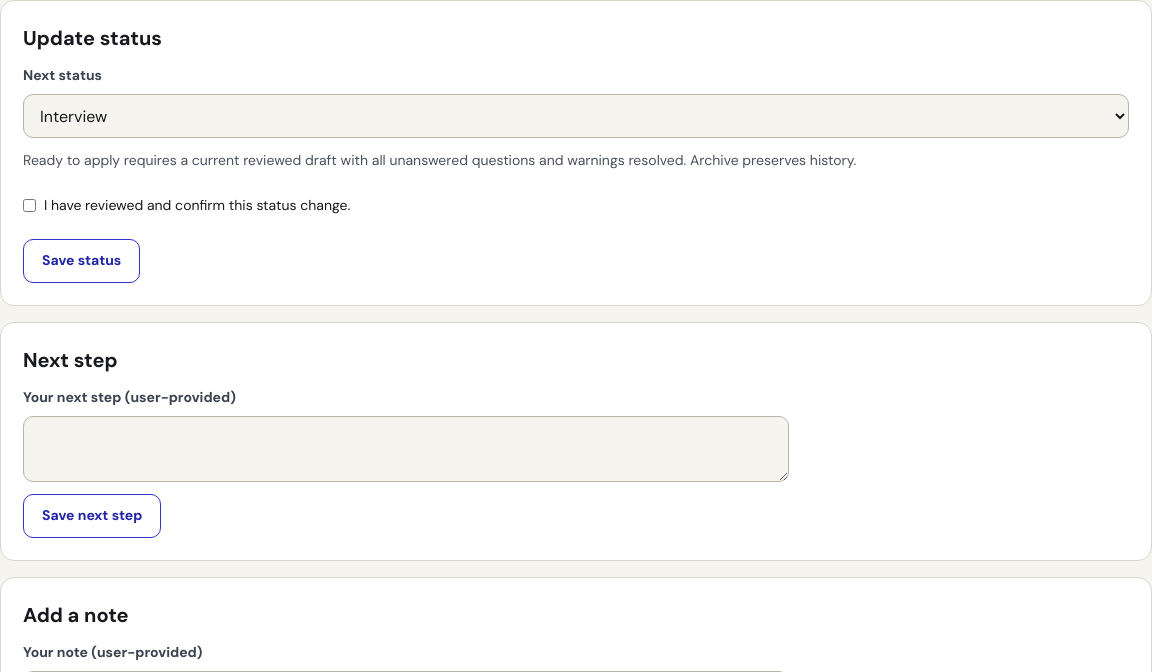
requires application archive confirmation and keeps failures open
Select "Archived" in the dropdown labelled "Next status" at (576, 116), box [23,94,1129,138]
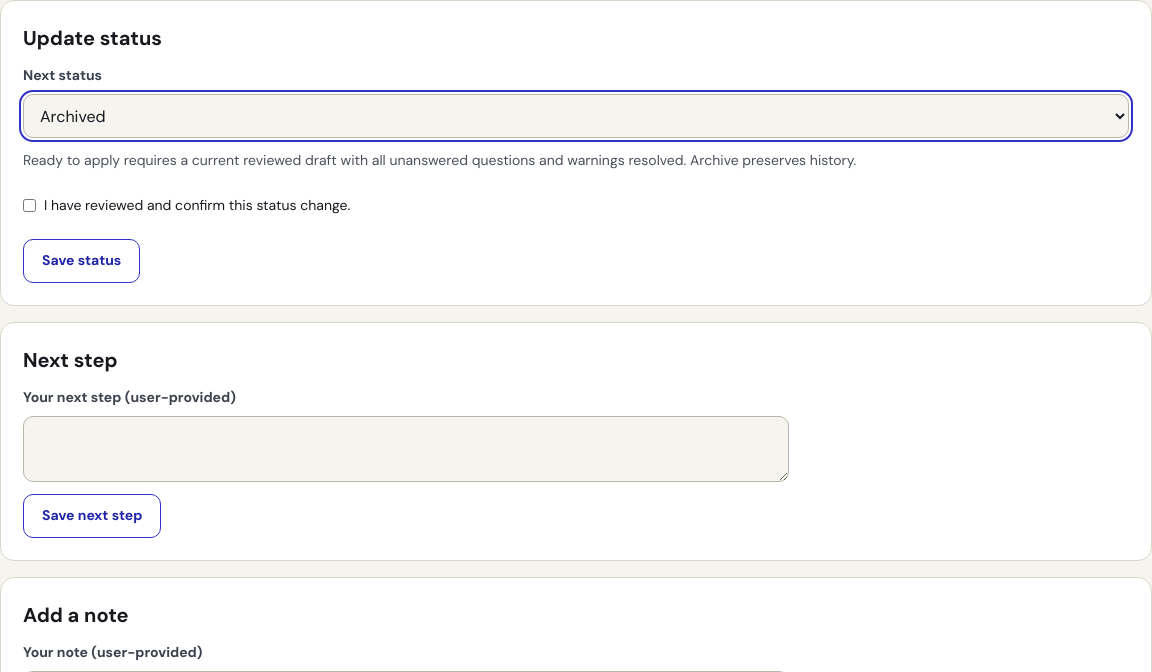
Click the checkbox labelled "I have reviewed and confirm this status change." at (30, 205), box [23,198,36,212]
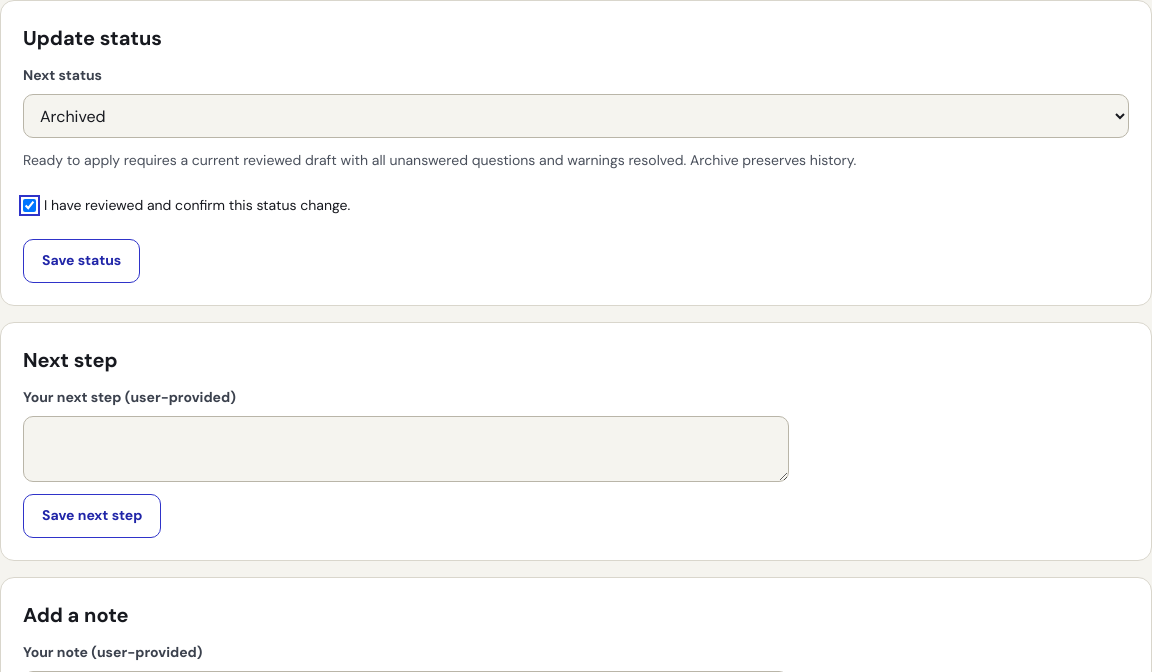
Click the button "Save status" at (82, 261), box [23,239,140,283]
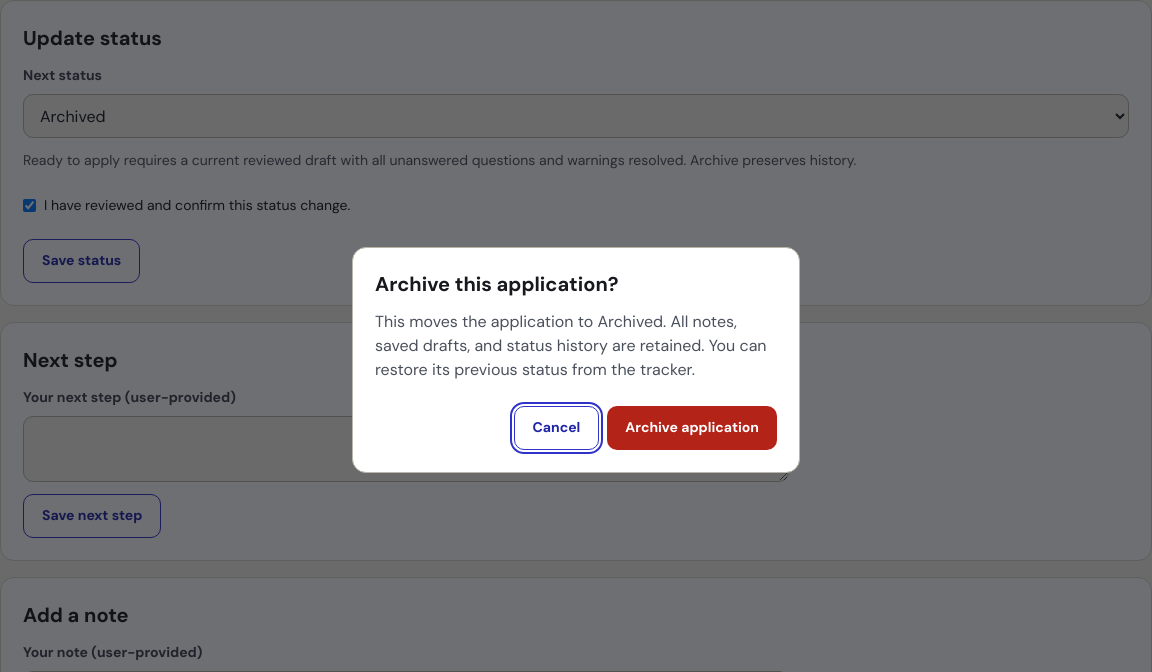
Expected: the dialog "Archive this application?" shows "history are retained", [375,311,767,380]
Click the button "Cancel" at (556, 428), box [514,406,599,450]
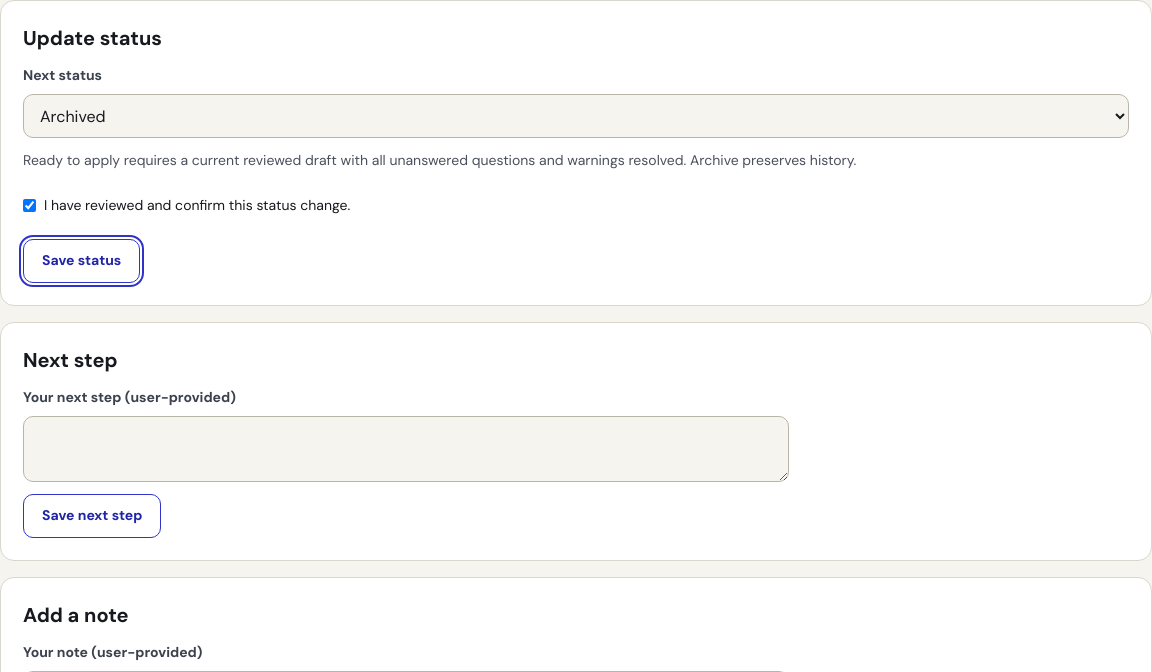
Click the button "Save status" at (82, 261), box [23,239,140,283]
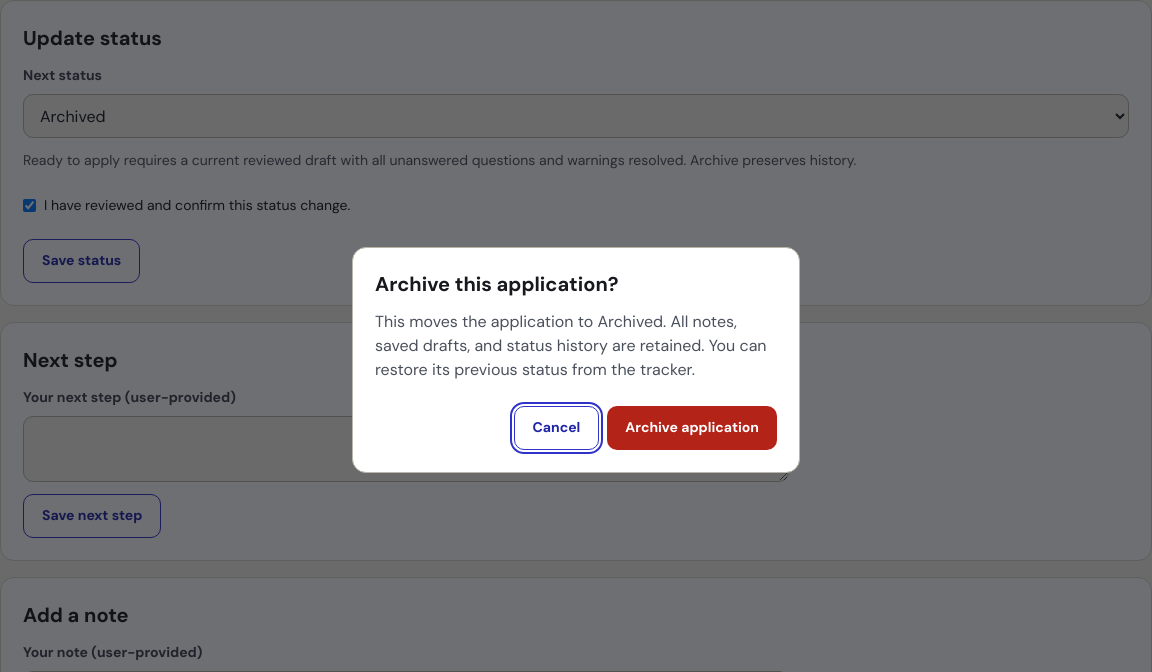
Click the button "Archive application" at (692, 428), box [607,406,777,450]
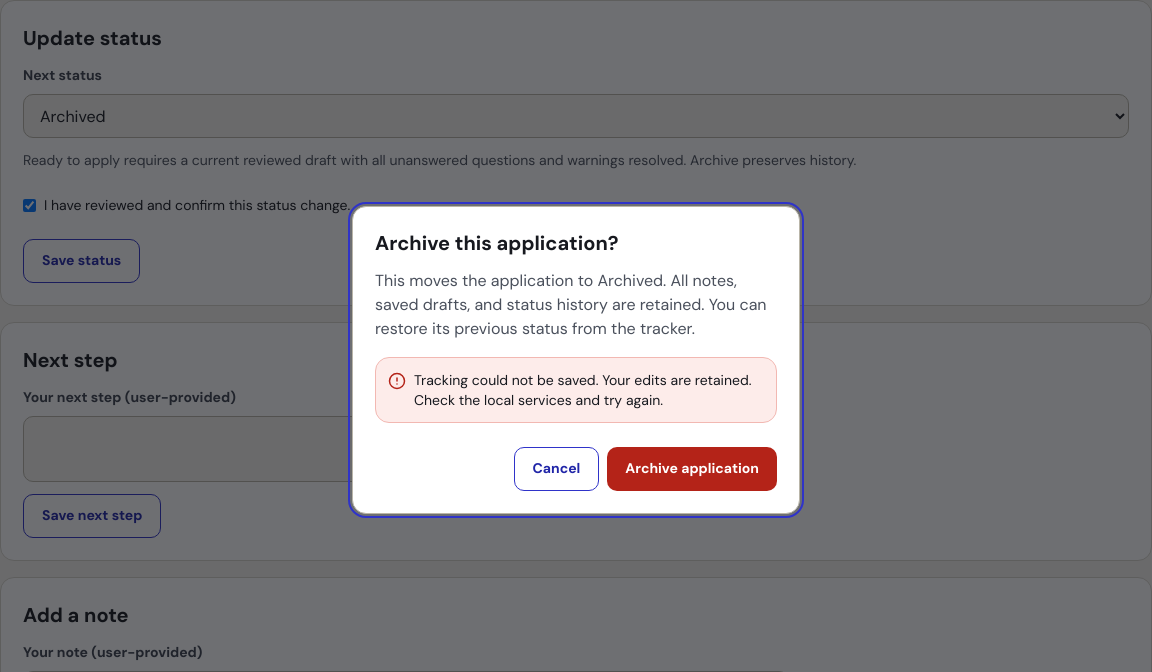
Expected: the dialog is shown, [352,206,800,514]
Expected: the message shows "Your edits are retained", [414,371,752,409]
